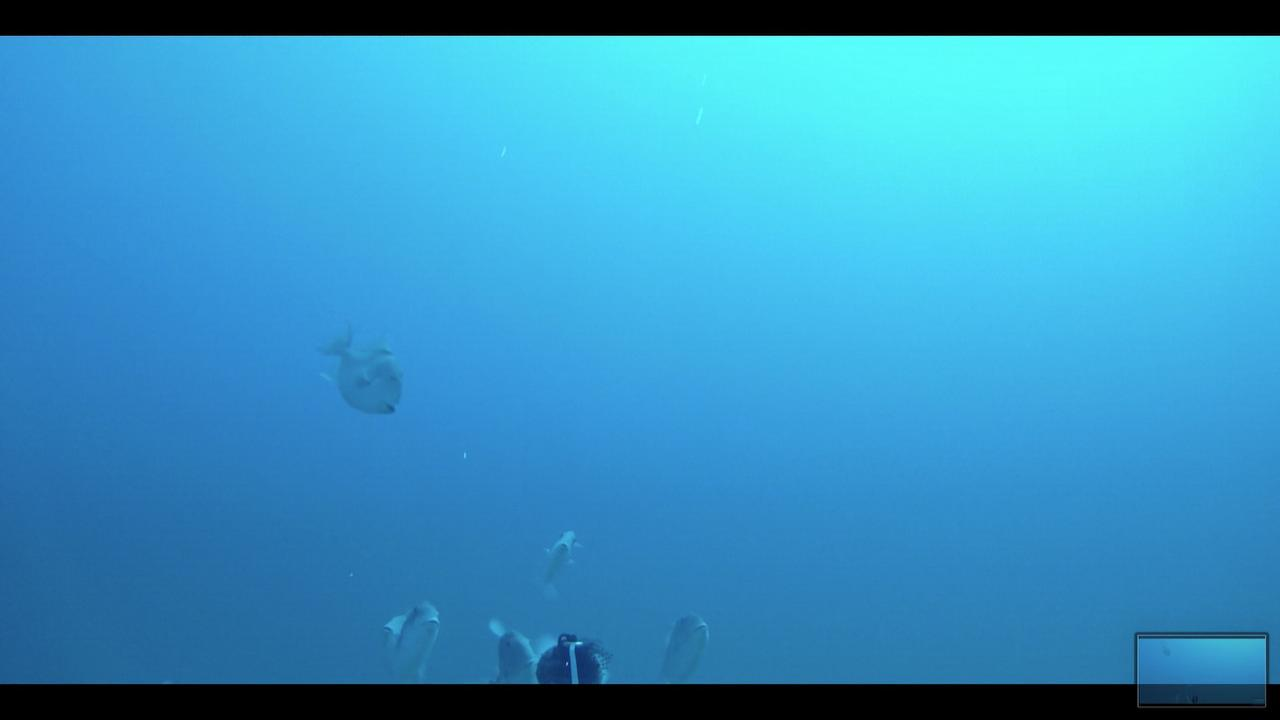balistes: (301, 308, 409, 422), (376, 596, 444, 678), (654, 602, 709, 681), (479, 617, 536, 682), (538, 518, 582, 601)
